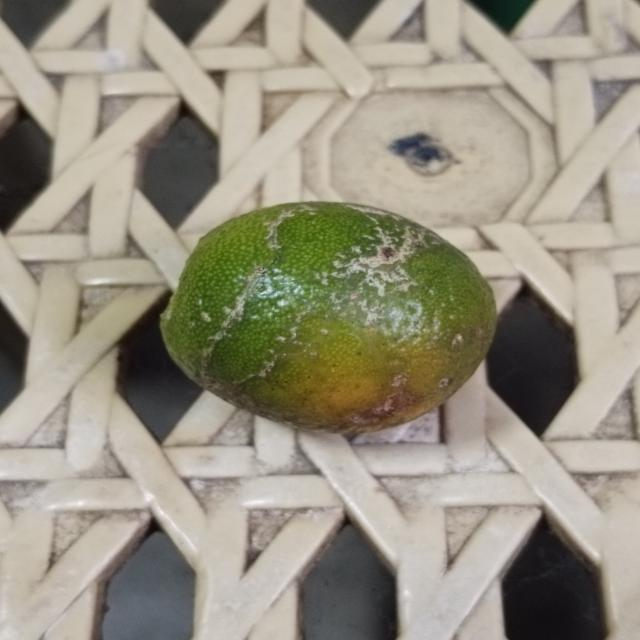thrips: (164, 199, 499, 443)
